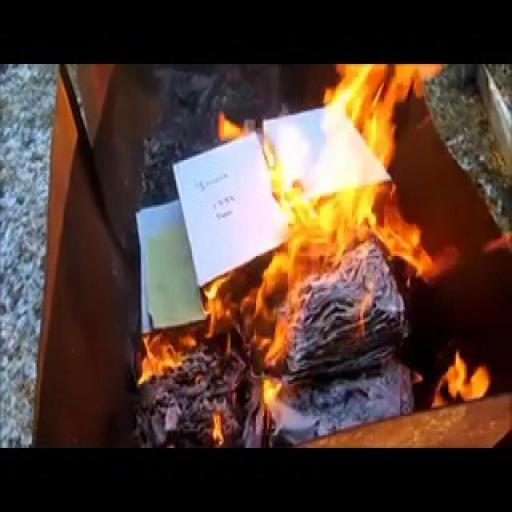smoke: (232, 62, 462, 356), (126, 322, 206, 433)
